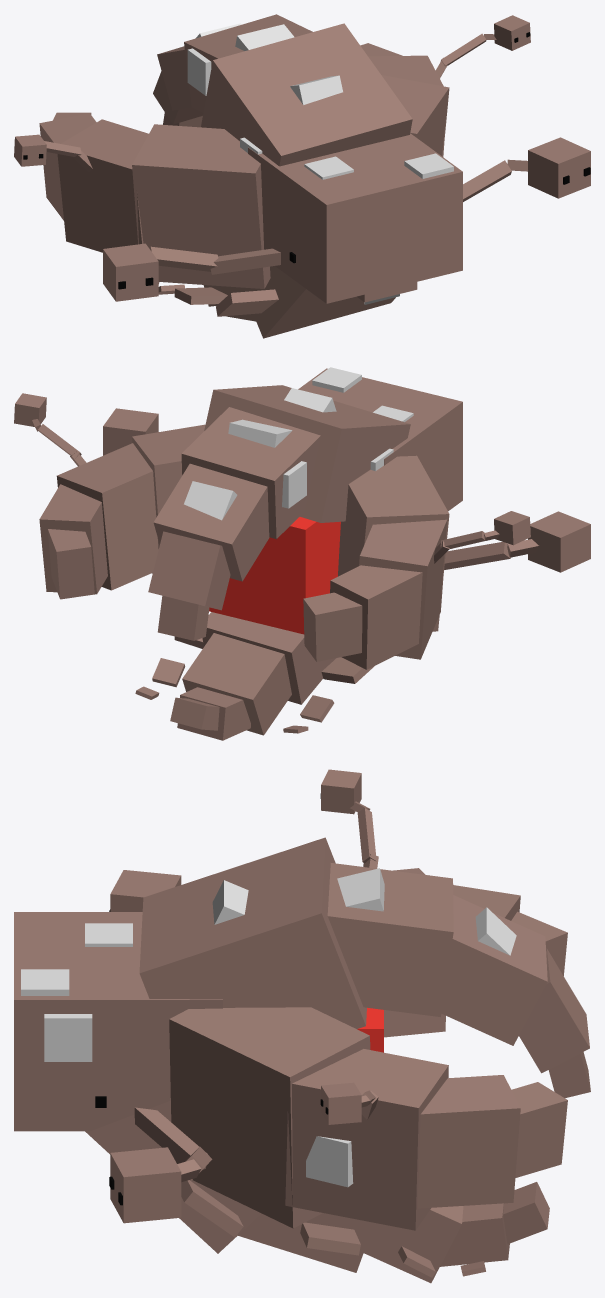
File: fishFruit2.glb
3 renders of one model, top to bottom at view 1: azimuth 30°, elevation 25°; view 2: azimuth 150°, elevation 25°; view 3: azimuth 270°, elevation 25°, orthographic. The views are drawn at different scales.
Visible parts, largest first — view 1: Cube.035, Cube.047, Cube.045, Cube.041, Cube.037, Cube.038; view 2: Cube.035, Cube.069, Cube.046, Cube.045, Cube.041, Cube.037, Cube.047; view 3: Cube.035, Cube.036, Cube.040, Cube.045, Cube.037, Cube.046, Cube.038, Cube.047, Cube.069.
Part boxes in pixels (<box>): Cube.035: <box>14,14,590,338</box>; Cube.047: <box>290,75,342,104</box>; Cube.045: <box>235,24,294,50</box>; Cube.041: <box>187,48,211,95</box>; Cube.037: <box>404,153,453,178</box>; Cube.038: <box>304,156,353,179</box>; Cube.035: <box>14,368,590,740</box>; Cube.069: <box>209,517,340,634</box>; Cube.046: <box>184,481,237,520</box>; Cube.045: <box>228,419,292,447</box>; Cube.041: <box>282,461,306,508</box>; Cube.037: <box>312,367,361,392</box>; Cube.047: <box>284,388,336,412</box>; Cube.035: <box>14,769,590,1283</box>; Cube.036: <box>44,1014,92,1061</box>; Cube.040: <box>306,1136,353,1187</box>; Cube.045: <box>337,868,384,911</box>; Cube.037: <box>21,969,69,995</box>; Cube.046: <box>475,907,516,955</box>; Cube.038: <box>85,923,132,946</box>; Cube.047: <box>212,880,248,924</box>; Cube.069: <box>357,1007,383,1052</box>.
Bounding box in the file's own units: 7.47 × 4.09 × 5.52.
